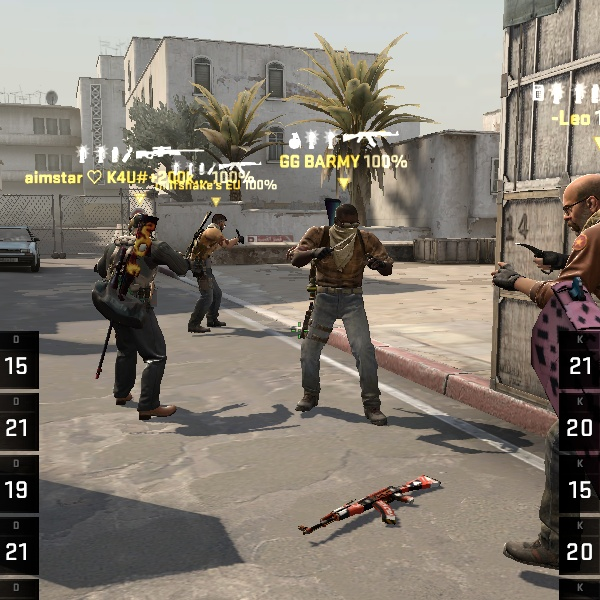t_body: (275, 196, 404, 421), (68, 202, 190, 419), (175, 204, 249, 338)
t_head: (324, 197, 368, 242), (121, 205, 164, 251)
